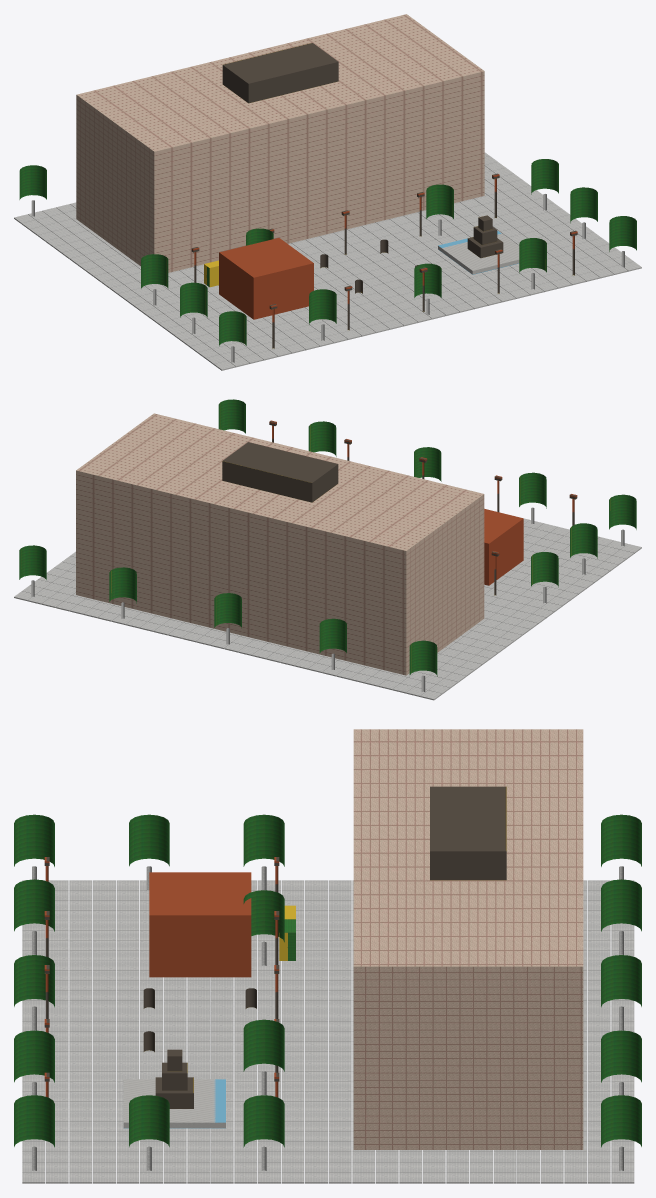
3 renders of one model, top to bottom at view 1: azimuth 30°, elevation 25°; view 2: azimuth 150°, elevation 25°; view 3: azimuth 270°, elevation 25°, orthographic. The views are drawn at different scales.
Parts seen in each view (by area): view 1: 28185_B44_Incheon_City_Museum; view 2: 28185_B44_Incheon_City_Museum; view 3: 28185_B44_Incheon_City_Museum.
Boxes of the visible parts, <box> form: 28185_B44_Incheon_City_Museum: <box>14,14,641,370</box>; 28185_B44_Incheon_City_Museum: <box>14,399,641,700</box>; 28185_B44_Incheon_City_Museum: <box>14,729,641,1183</box>.
Bounding box in the file's own units: 55.95 × 18.5 × 49.2.
Materials: 1 (1 with a texture image).
